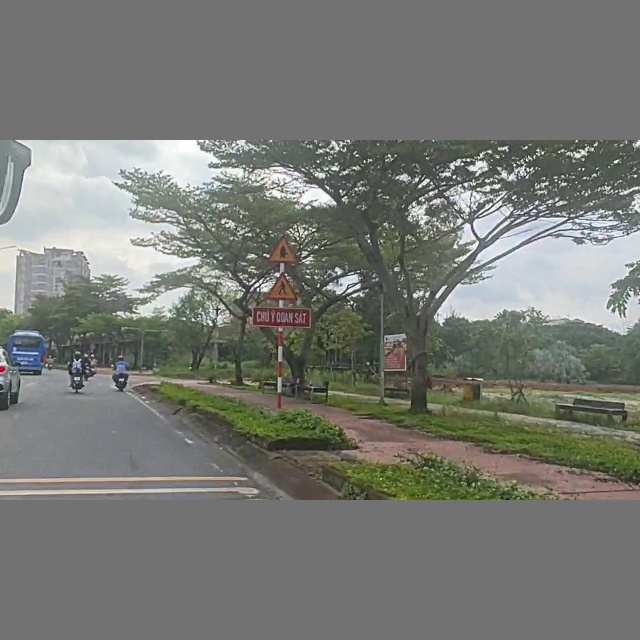W.207: (268, 234, 305, 265)
W.224: (263, 270, 305, 303)
